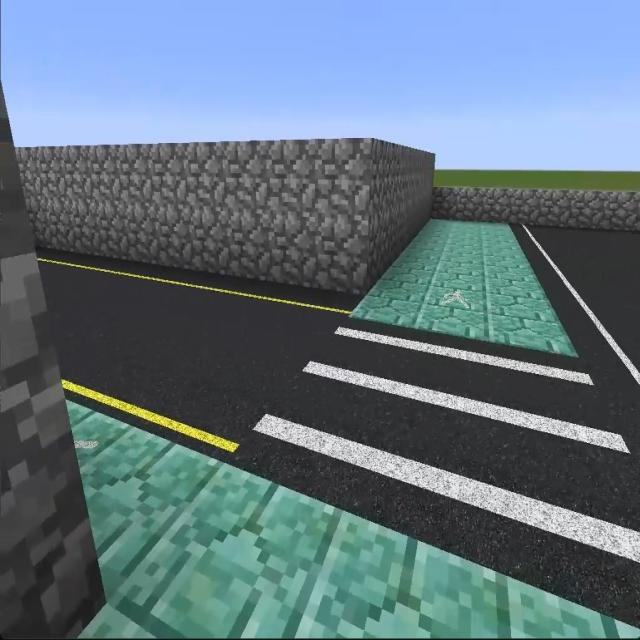crosswalk: (230, 316, 639, 611)
road: (40, 249, 350, 452), (518, 230, 637, 402)
sidewalk: (67, 401, 639, 639), (351, 219, 577, 356)
